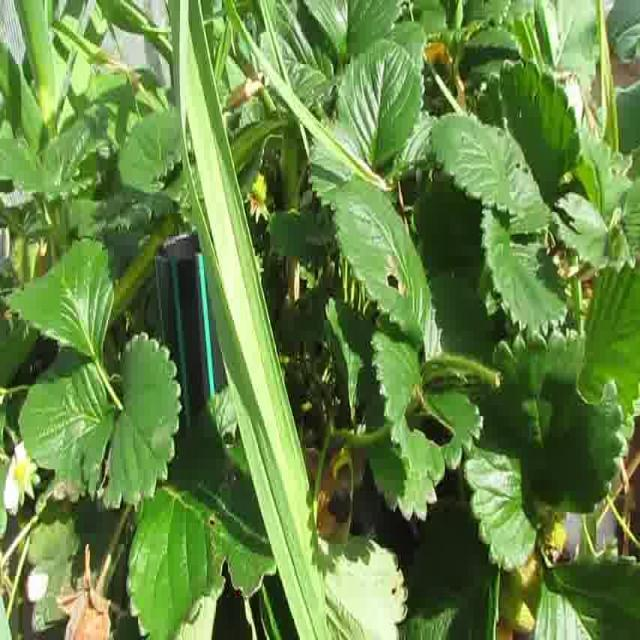Fruta sana: (497, 582, 537, 632), (512, 554, 543, 594), (542, 516, 568, 552), (490, 620, 514, 640), (252, 174, 268, 203), (13, 462, 27, 484)
Moho gris: (59, 593, 112, 640)
